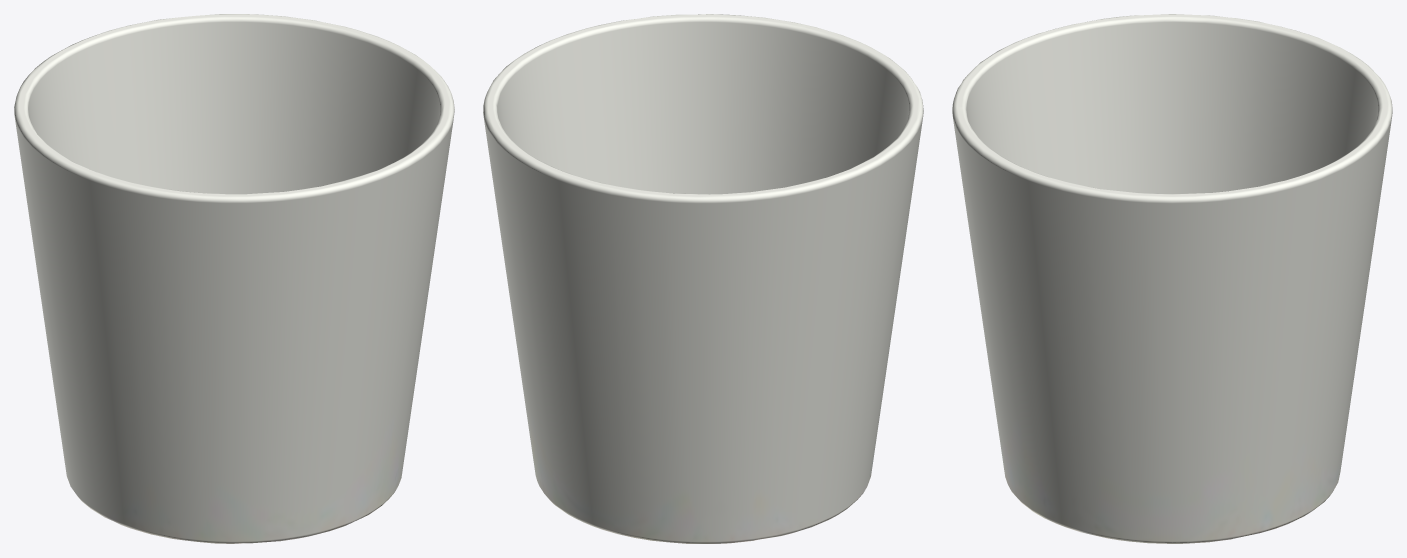
The model's file is 19 - SOJABÖNA Plant pot - white 19 cm.glb.
3 renders of one model, left to right at view 1: azimuth 30°, elevation 25°; view 2: azimuth 150°, elevation 25°; view 3: azimuth 270°, elevation 25°, orthographic.
Parts seen in each view (by area): view 1: model; view 2: model; view 3: model.
Boxes of the visible parts, <box> form: model: <box>14,14,454,543</box>; model: <box>483,14,923,543</box>; model: <box>952,14,1392,543</box>.
Size of the model in its own units: 0.2302 by 0.213 by 0.2301.
1 material, 1 textured.
